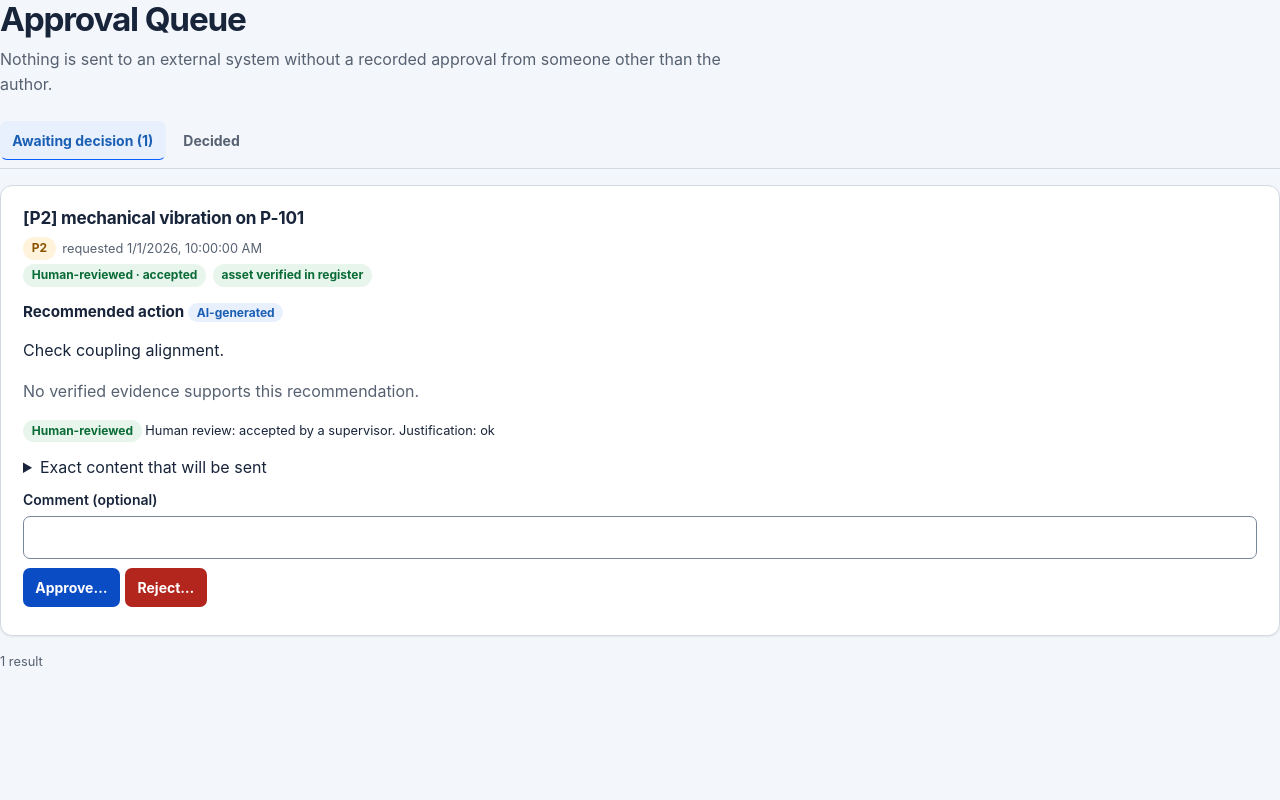
Test case: ApprovalsPage › surfaces a server refusal (for example an unregistered asset) instead of pretending success
Click the button "Approve…".
click(71, 587)  # box [23,568,120,607]
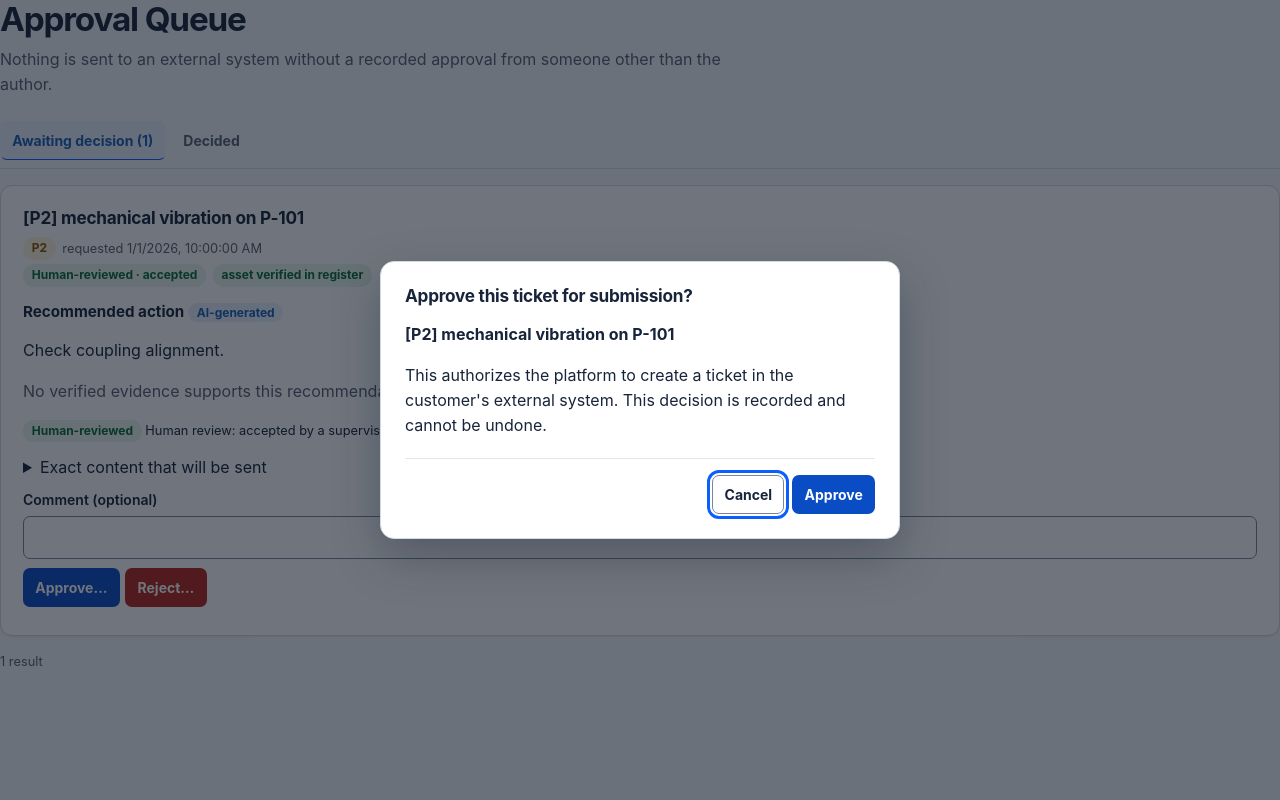
Click the button "Approve".
click(834, 494)  # box [792,475,875,514]
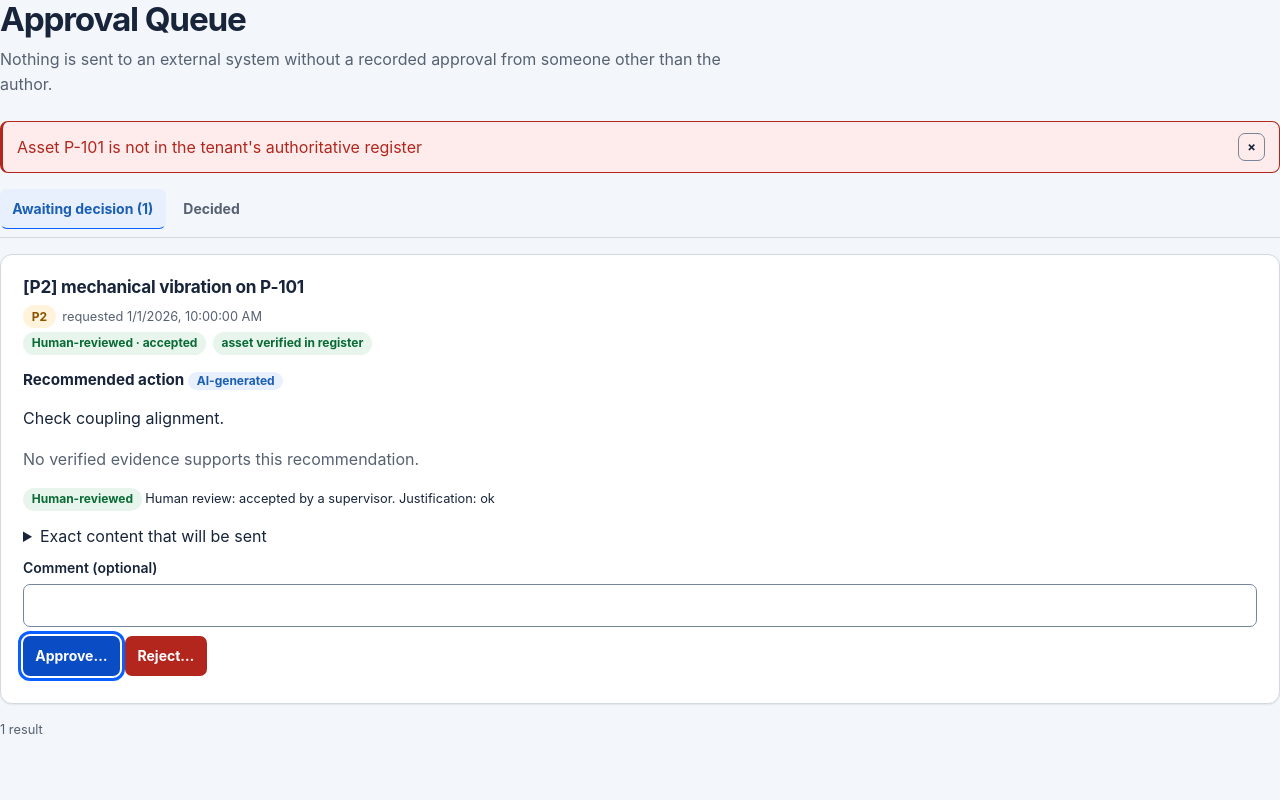
expect the text "Asset P-101 is not in the tenant's authoritative register" is shown: met, box [17,134,422,159]
